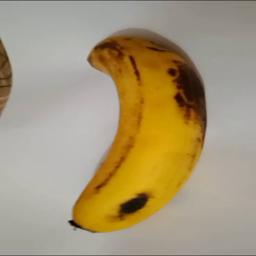Banana Semifresh: (69, 34, 210, 233)
